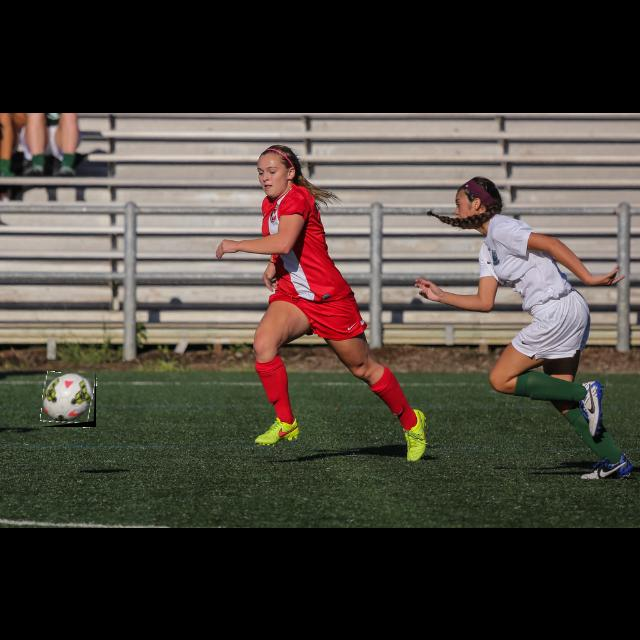Football: (42, 373, 96, 427)
